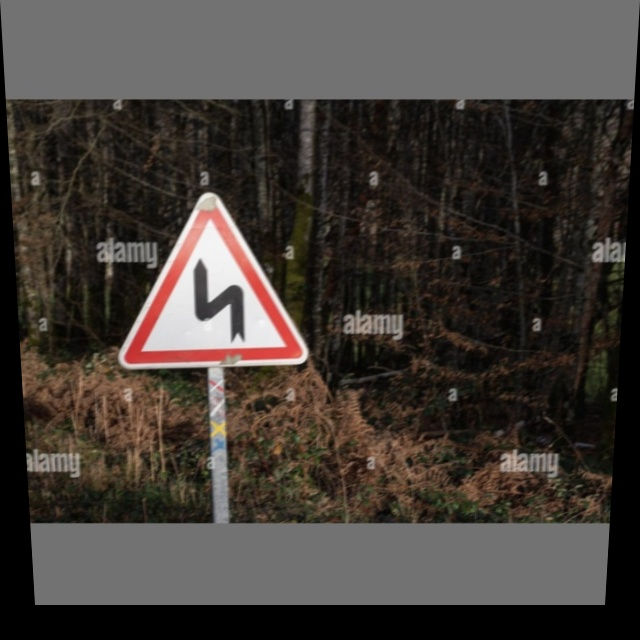Left_Reverse_Bend: (106, 193, 301, 374)
